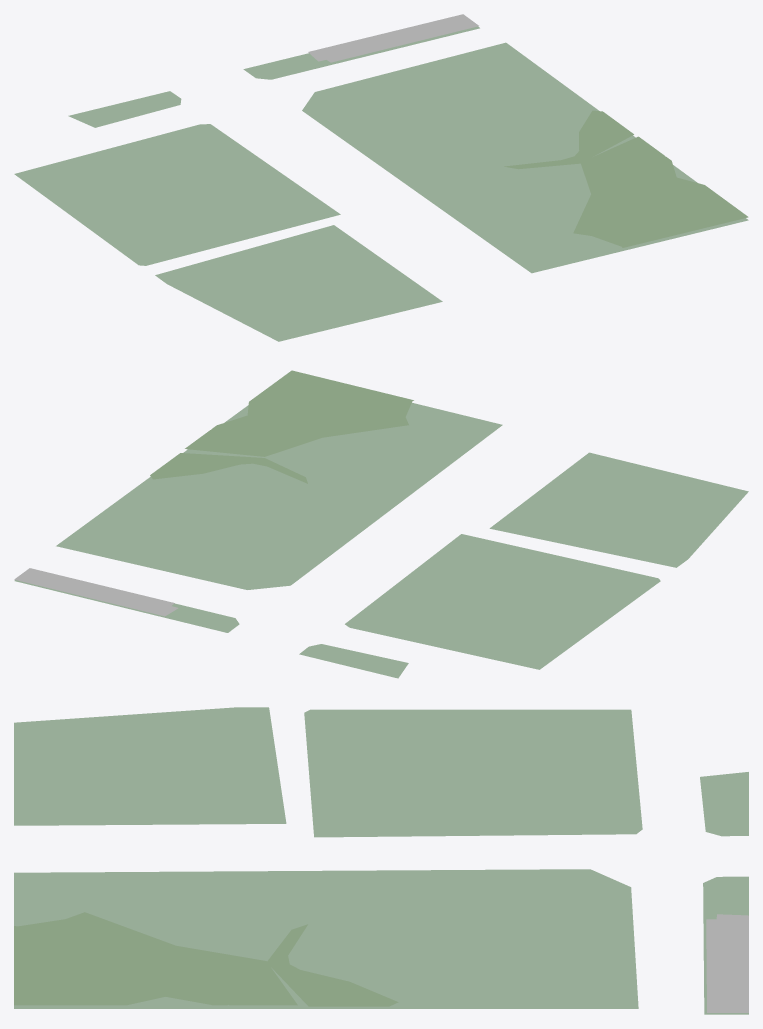
Rendered from 121_117_mid.glb.
3 renders of one model, top to bottom at view 1: azimuth 30°, elevation 25°; view 2: azimuth 150°, elevation 25°; view 3: azimuth 270°, elevation 25°, orthographic. The views are drawn at different scales.
Bounding box in the file's own units: 500 × 11.28 × 500.
